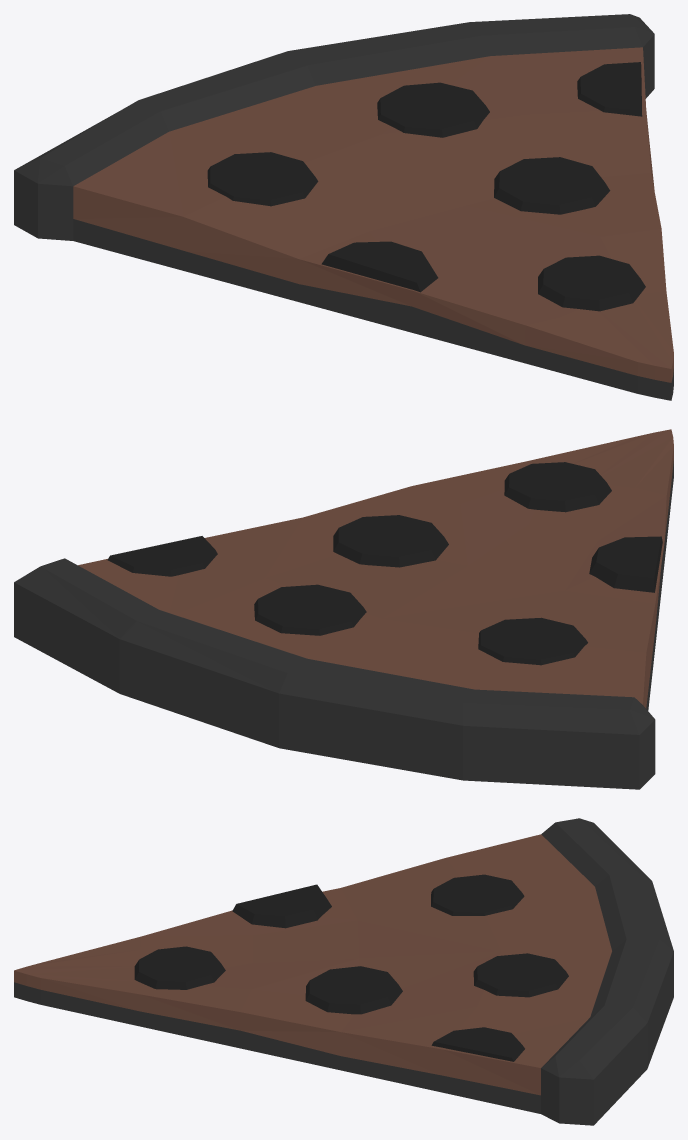
The model's file is Pizza_Burned.glb.
3 views of the same model, one above another, from view 1: azimuth 30°, elevation 25°; view 2: azimuth 150°, elevation 25°; view 3: azimuth 270°, elevation 25° (orthographic). The views are drawn at different scales.
Visible parts, largest first — view 1: Pizza_Burned; view 2: Pizza_Burned; view 3: Pizza_Burned.
Boxes of the visible parts, bbox=[...] form: Pizza_Burned: bbox=[14, 14, 673, 400]; Pizza_Burned: bbox=[14, 429, 673, 789]; Pizza_Burned: bbox=[14, 818, 673, 1125].
Bounding box in the file's own units: 1.07 × 0.1128 × 1.16.
